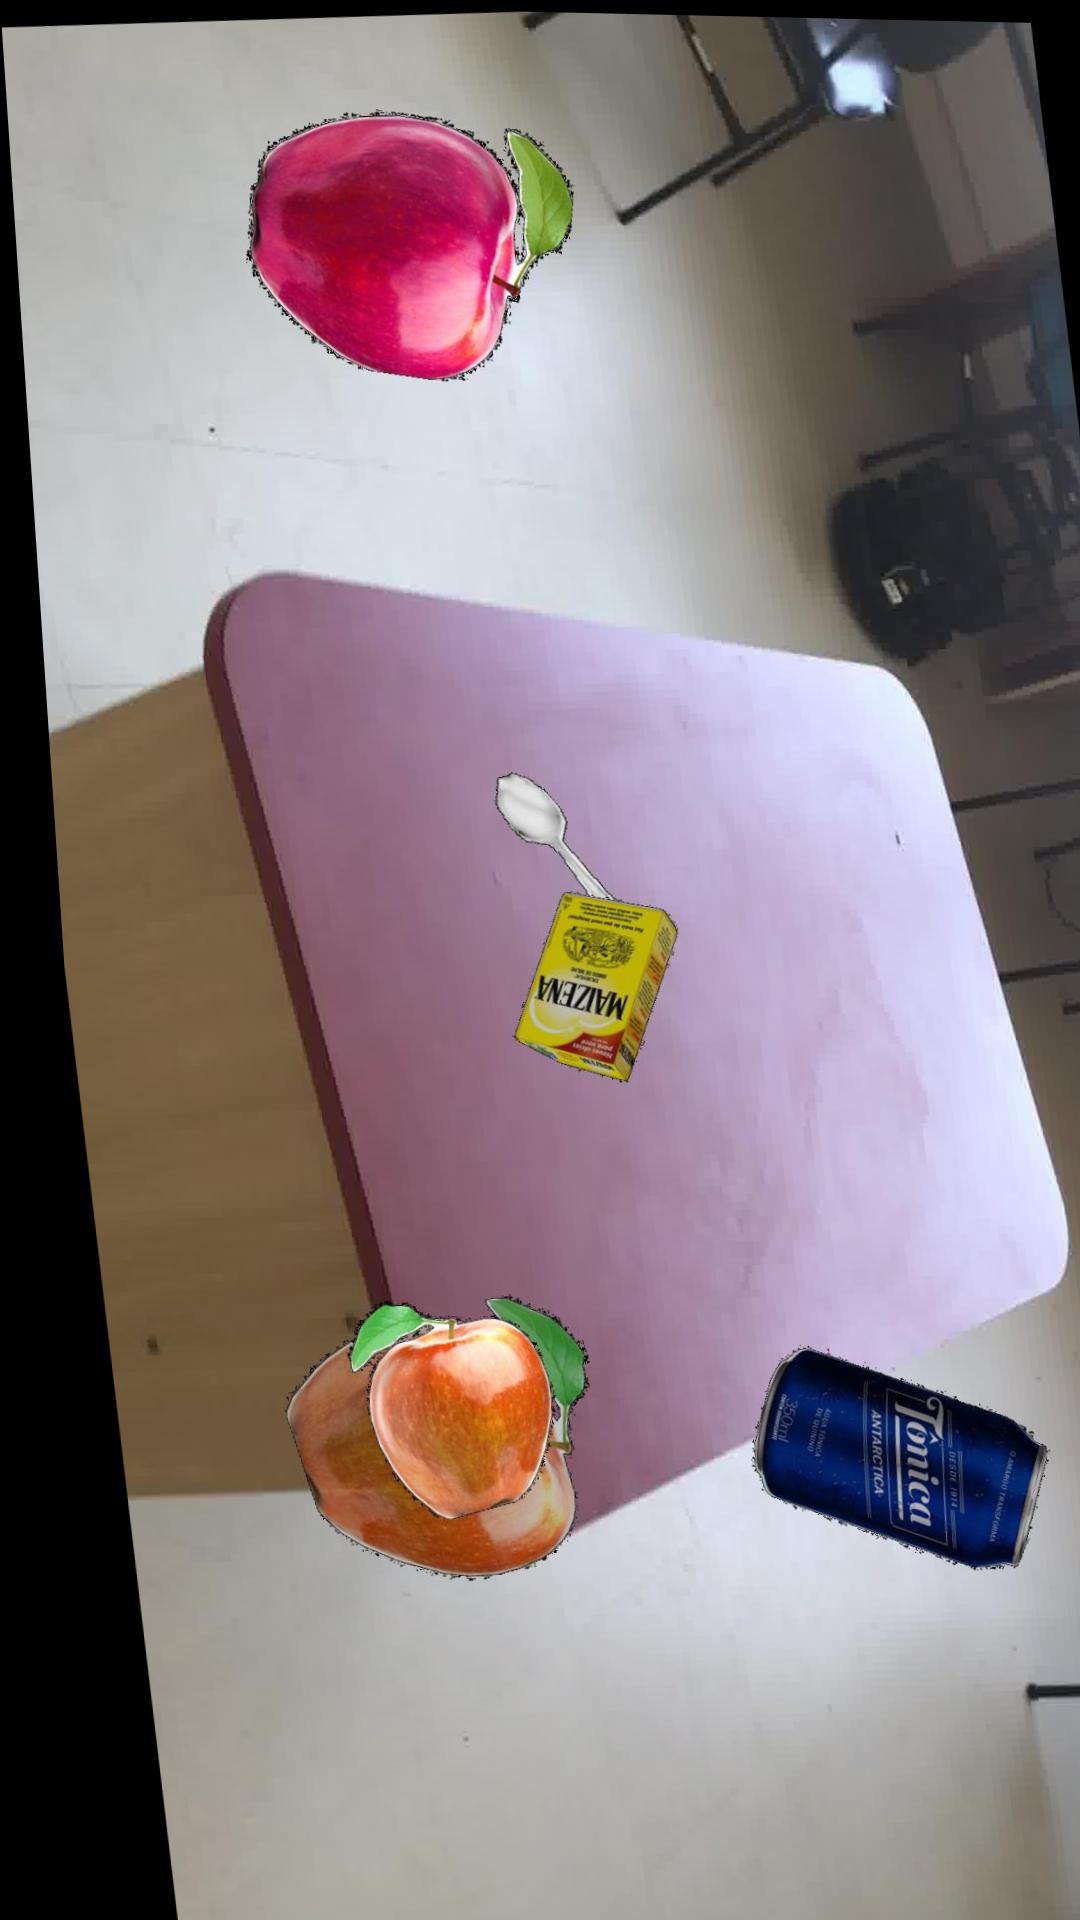apple: (241, 111, 570, 380), (264, 1295, 568, 1577), (326, 1300, 534, 1519)
spoon: (483, 771, 603, 899)
tonic: (729, 1345, 1027, 1567)
